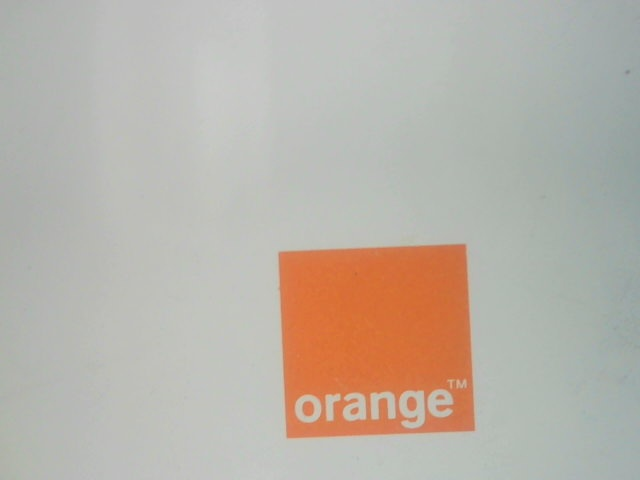AR_Orange: (268, 239, 486, 441)
